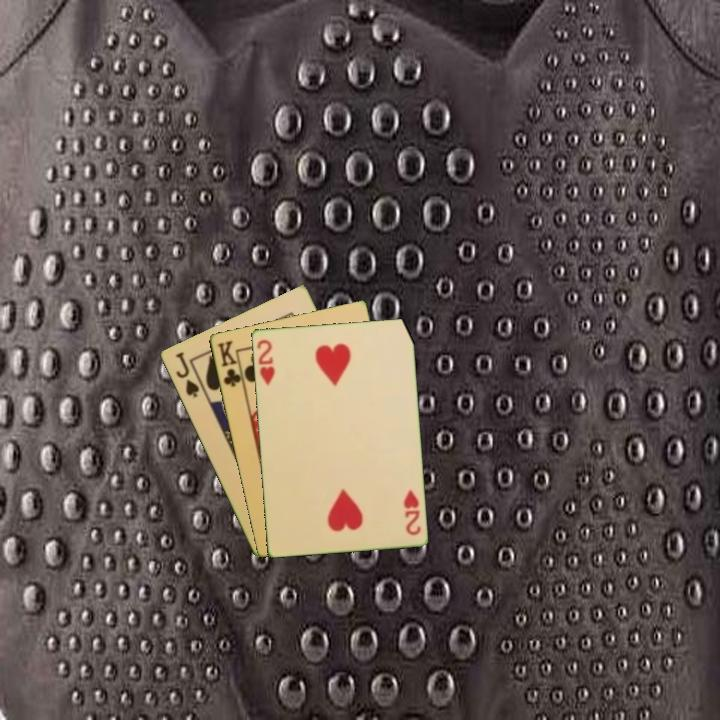2h: (253, 336, 277, 388), (400, 486, 423, 538)
Js: (172, 348, 202, 400)
Kc: (213, 336, 246, 391)
